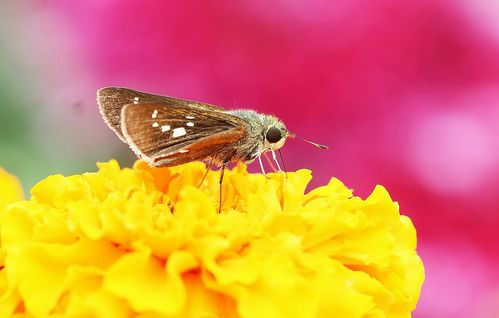Hesperiidae: (93, 86, 328, 191)
